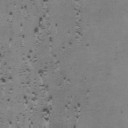oxide scale of temperature system: (0, 68, 66, 128), (8, 4, 53, 42), (68, 5, 83, 46), (7, 118, 12, 124), (77, 102, 81, 107)
